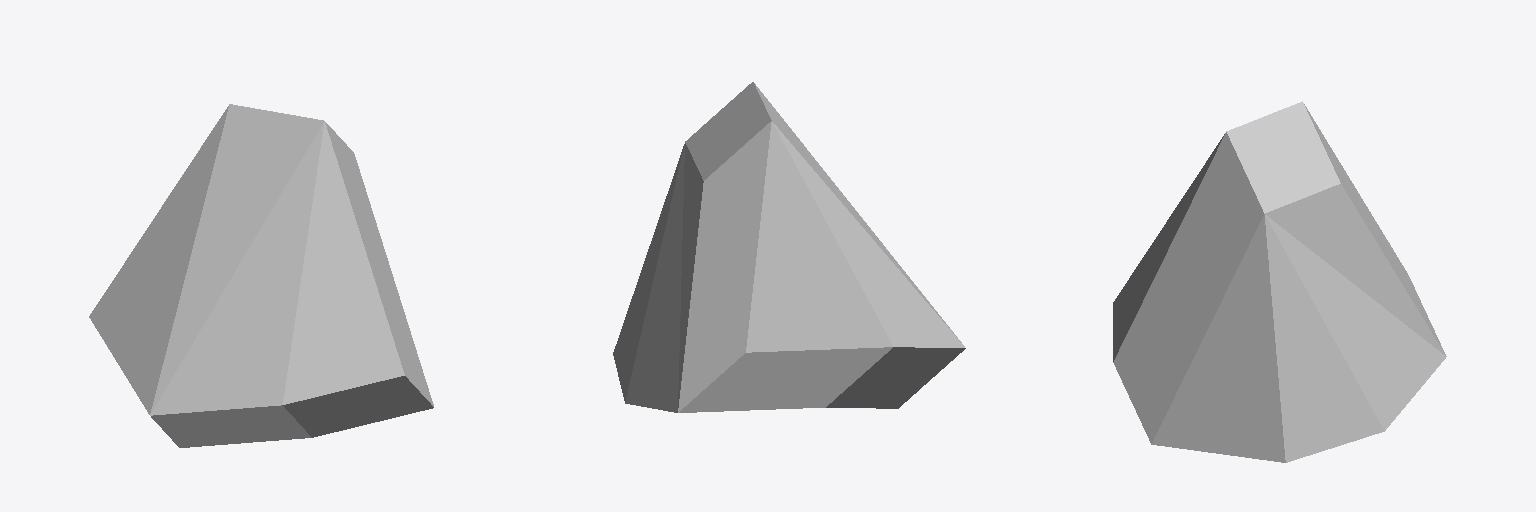
File: RockMedium.obj
3 views of the same model, side by side, from view 1: azimuth 30°, elevation 25°; view 2: azimuth 150°, elevation 25°; view 3: azimuth 270°, elevation 25° (orthographic).
Visible parts, largest first — view 1: RockMedium_Cone; view 2: RockMedium_Cone; view 3: RockMedium_Cone.
Part boxes in pixels (x1,y1,x2,y2): RockMedium_Cone: (89,104,433,447); RockMedium_Cone: (613,82,965,412); RockMedium_Cone: (1113,101,1446,462).
Bounding box in the file's own units: 2.92 × 2.71 × 2.78.